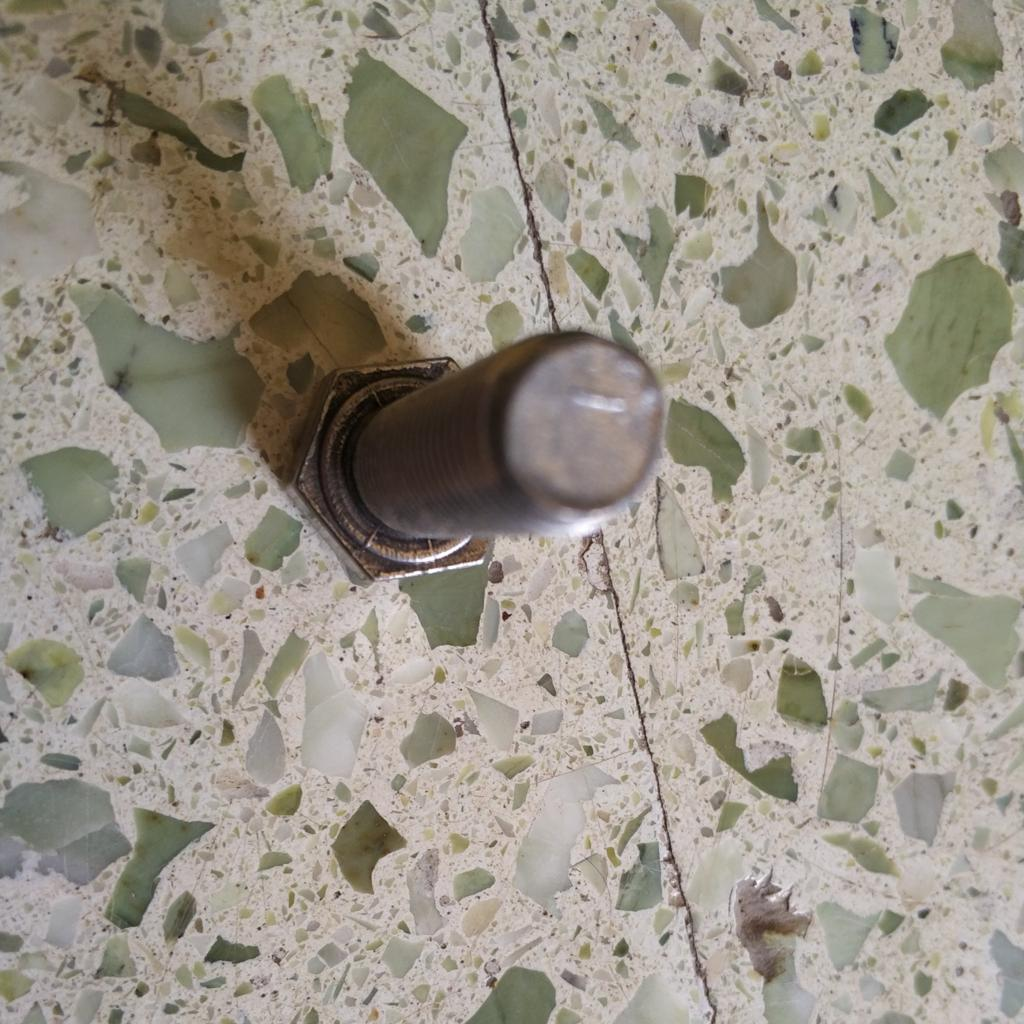screwtype2silver: (268, 320, 669, 591)
